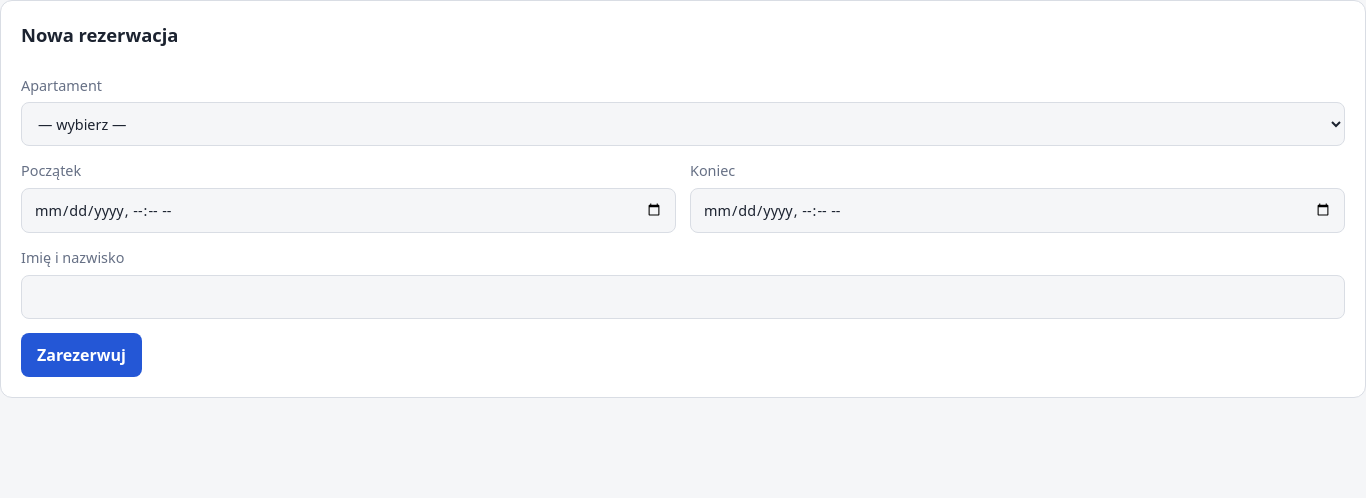
Test: BookingForm › maps server validation errors onto the fields
Select "Apartament 101" in the dropdown labelled "Apartament": (683,124) left=21, top=102, right=1345, bottom=146
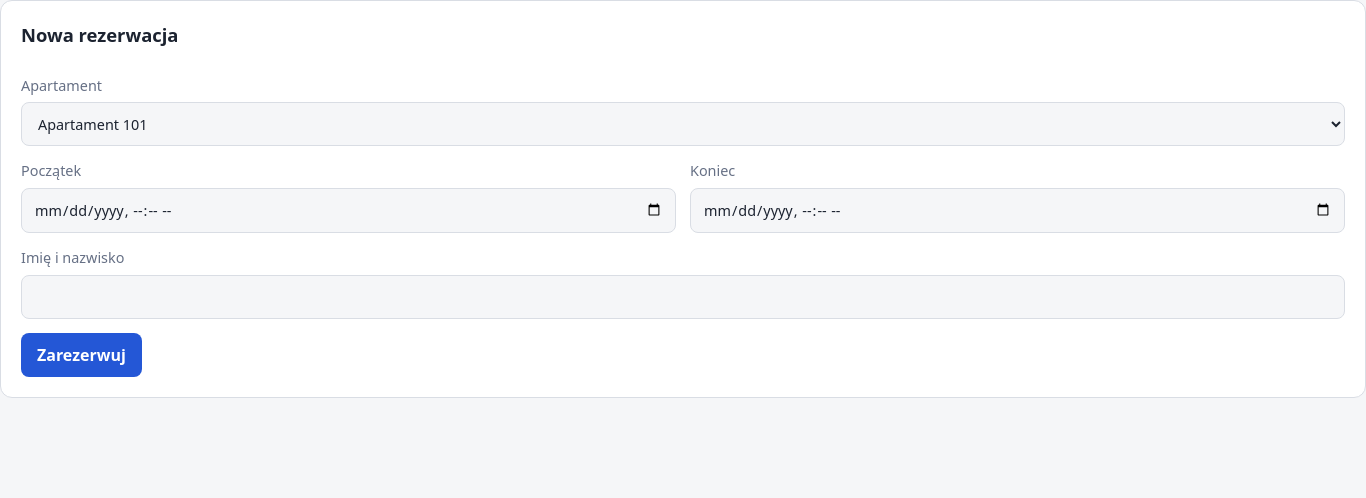
In the field labelled "Początek": (348,211) left=21, top=188, right=676, bottom=233, type "2026-07-01T10:00"
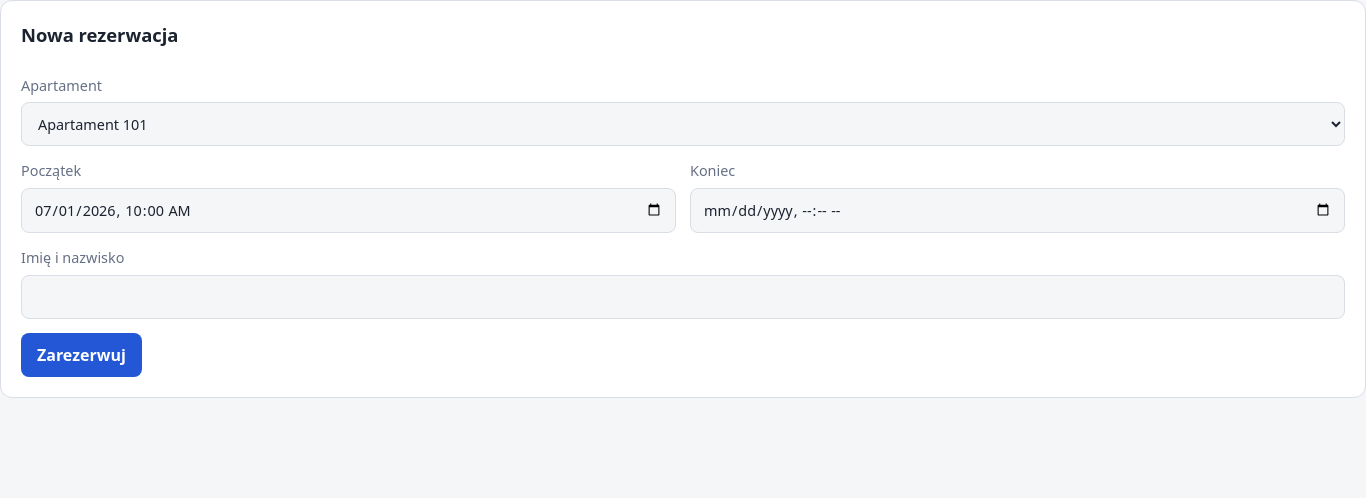
In the field labelled "Koniec": (1018,211) left=690, top=188, right=1345, bottom=233, type "2026-07-03T10:00"
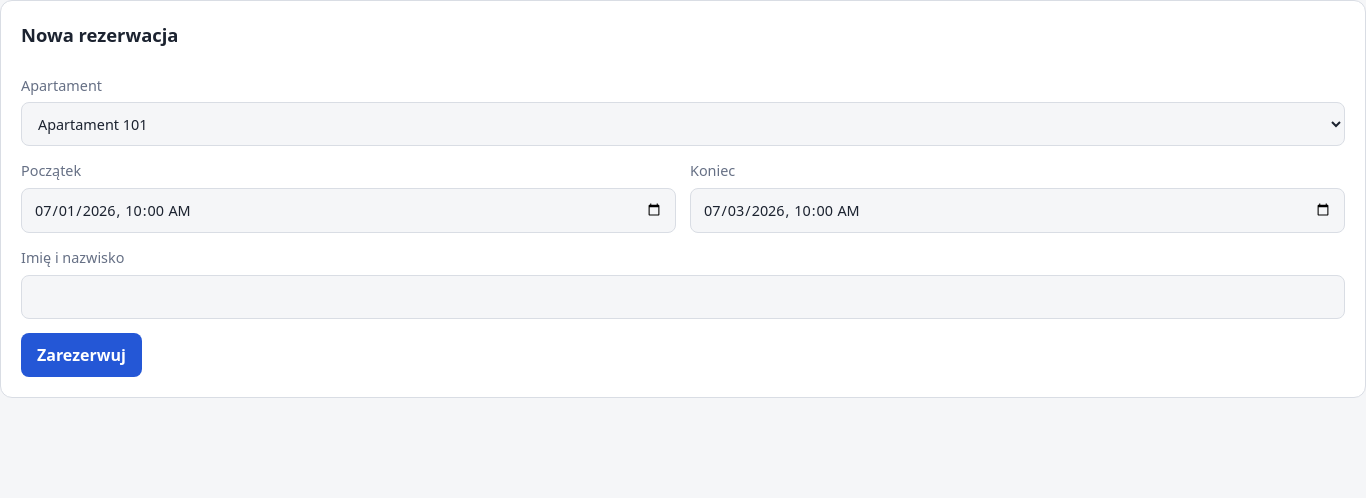
In the field labelled "Imię i nazwisko": (683,297) left=21, top=275, right=1345, bottom=319, type "Jan"
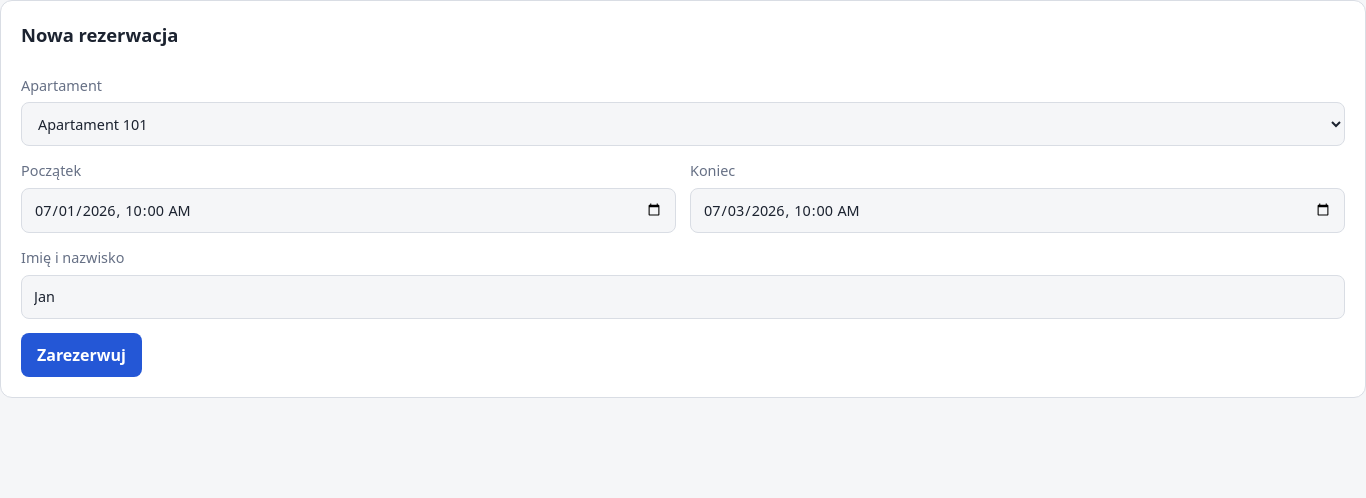
Click the button "Zarezerwuj": (81,355) left=21, top=333, right=142, bottom=377
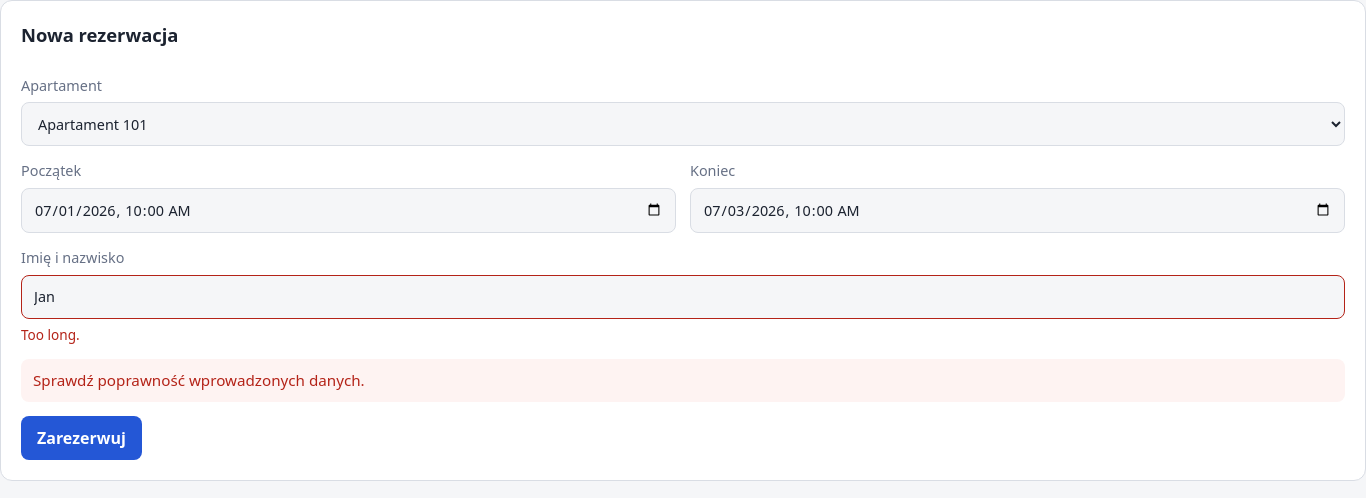
Expected: the text "Too long." is shown, left=21, top=325, right=80, bottom=344
Expected: the message reads "Sprawdź poprawność wprowadzonych danych.", left=33, top=370, right=365, bottom=390
